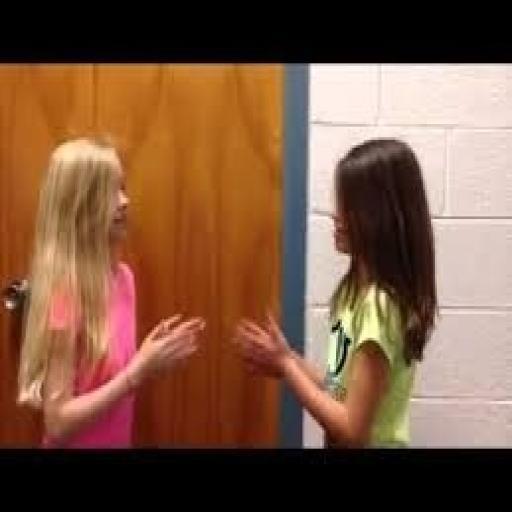clapping: (229, 134, 439, 448), (14, 132, 207, 449)
